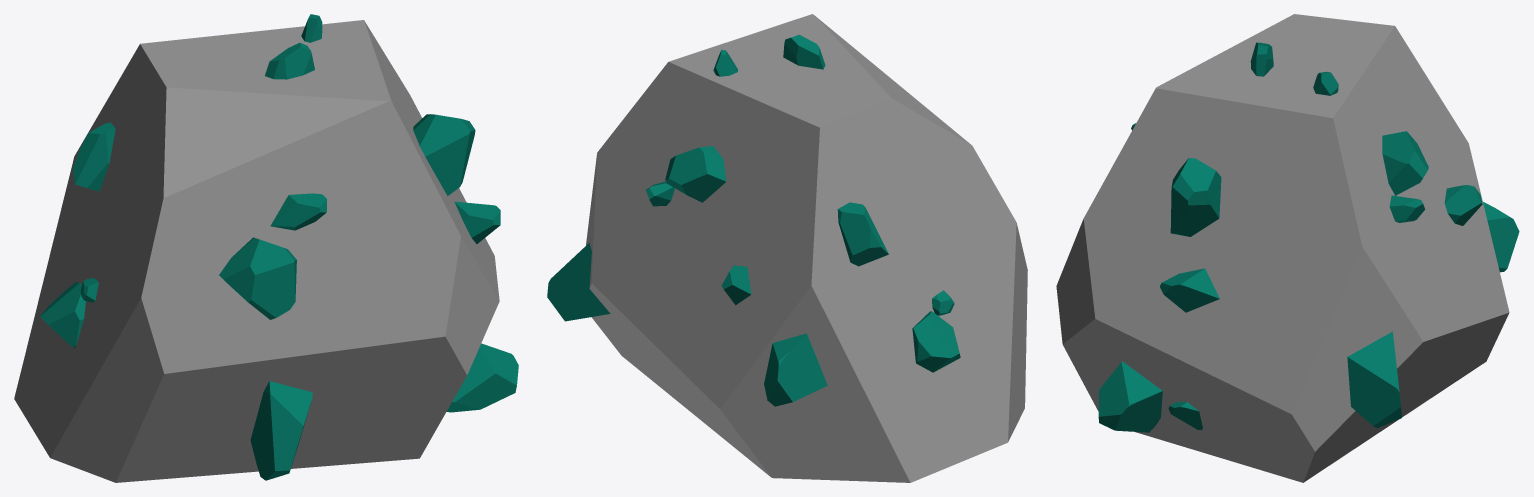
File: Copper Ore.fbx
3 views of the same model, side by side, from view 1: azimuth 30°, elevation 25°; view 2: azimuth 150°, elevation 25°; view 3: azimuth 270°, elevation 25° (orthographic). The views are drawn at different scales.
Visible parts, largest first — view 1: Copper_Ore; view 2: Copper_Ore; view 3: Copper_Ore.
Boxes of the visible parts, bbox=[...] form: Copper_Ore: bbox=[14, 14, 518, 482]; Copper_Ore: bbox=[547, 14, 1027, 482]; Copper_Ore: bbox=[1056, 14, 1519, 482].
Size of the model in its own units: 2.02 by 1.57 by 1.84.
